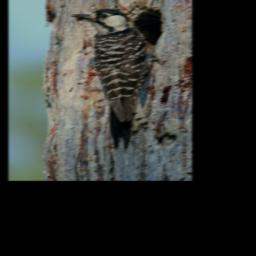Woodpecker: (70, 8, 168, 154)
